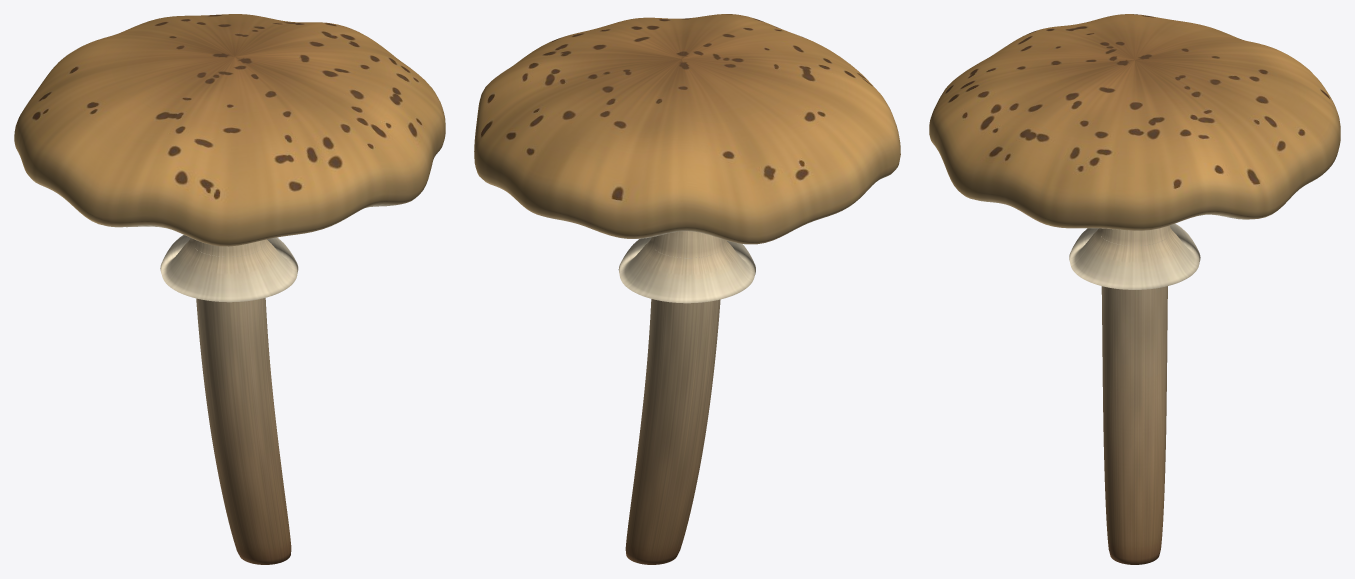
File: armillaria-drawn.glb
3 renders of one model, left to right at view 1: azimuth 30°, elevation 25°; view 2: azimuth 150°, elevation 25°; view 3: azimuth 270°, elevation 25°, orthographic. The views are drawn at different scales.
Size of the model in its own units: 0.6864 by 0.89 by 0.6863.
1 material, 1 textured.
